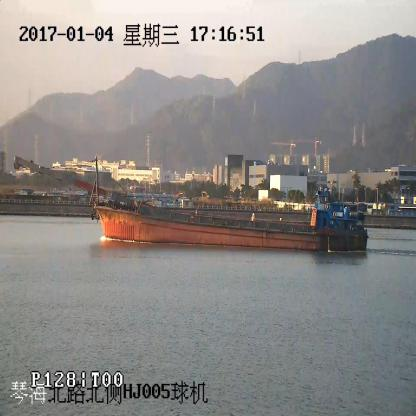Bulk Carrier: (15, 156, 367, 252)
